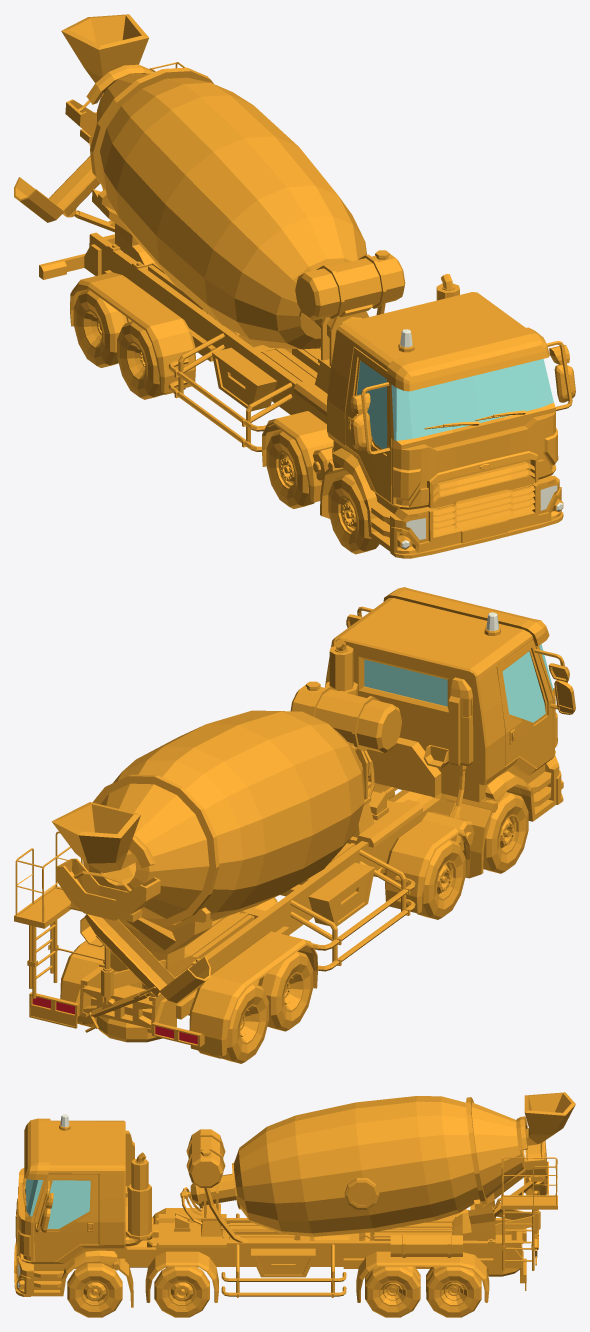
File: SM_Car_Truck_Modern_Concrete.fbx
3 views of the same model, one above another, from view 1: azimuth 30°, elevation 25°; view 2: azimuth 150°, elevation 25°; view 3: azimuth 270°, elevation 25° (orthographic). The views are drawn at different scales.
Parts seen in each view (by area): view 1: SM_Car_Truck_Modern_Concrete_Base, SM_Car_Truck_Modern_Concrete_Tank, SM_Car_Truck_Modern_Concrete_Door_RF, SM_Car_Truck_Modern_Concrete_Wheel_BR2, SM_Car_Truck_Modern_Concrete_Wheel_RF1, SM_Car_Truck_Modern_Concrete_Wheel_BR1, SM_Car_Truck_Modern_Concrete_Wheel_RF2, SM_Car_Truck_Modern_Concrete_Door_LF; view 2: SM_Car_Truck_Modern_Concrete_Base, SM_Car_Truck_Modern_Concrete_Tank, SM_Car_Truck_Modern_Concrete_Door_RF, SM_Car_Truck_Modern_Concrete_Wheel_BR1, SM_Car_Truck_Modern_Concrete_Wheel_RF1, SM_Car_Truck_Modern_Concrete_Wheel_RF2, SM_Car_Truck_Modern_Concrete_Wheel_BR2; view 3: SM_Car_Truck_Modern_Concrete_Base, SM_Car_Truck_Modern_Concrete_Tank, SM_Car_Truck_Modern_Concrete_Door_LF, SM_Car_Truck_Modern_Concrete_Wheel_BL1, SM_Car_Truck_Modern_Concrete_Wheel_LF1, SM_Car_Truck_Modern_Concrete_Wheel_BL2, SM_Car_Truck_Modern_Concrete_Wheel_LF2.
Boxes of the visible parts, left/top/right/bottom form: SM_Car_Truck_Modern_Concrete_Base: left=14, top=14, right=563, bottom=558; SM_Car_Truck_Modern_Concrete_Tank: left=90, top=67, right=366, bottom=349; SM_Car_Truck_Modern_Concrete_Door_RF: left=345, top=347, right=391, bottom=502; SM_Car_Truck_Modern_Concrete_Wheel_BR2: left=73, top=289, right=131, bottom=367; SM_Car_Truck_Modern_Concrete_Wheel_RF1: left=328, top=474, right=379, bottom=554; SM_Car_Truck_Modern_Concrete_Wheel_BR1: left=117, top=321, right=185, bottom=399; SM_Car_Truck_Modern_Concrete_Wheel_RF2: left=266, top=430, right=314, bottom=508; SM_Car_Truck_Modern_Concrete_Door_LF: left=546, top=341, right=575, bottom=410; SM_Car_Truck_Modern_Concrete_Base: left=14, top=587, right=563, bottom=1056; SM_Car_Truck_Modern_Concrete_Tank: left=83, top=710, right=364, bottom=926; SM_Car_Truck_Modern_Concrete_Door_RF: left=496, top=640, right=575, bottom=767; SM_Car_Truck_Modern_Concrete_Wheel_BR1: left=254, top=951, right=313, bottom=1031; SM_Car_Truck_Modern_Concrete_Wheel_RF1: left=483, top=792, right=528, bottom=873; SM_Car_Truck_Modern_Concrete_Wheel_RF2: left=416, top=840, right=465, bottom=919; SM_Car_Truck_Modern_Concrete_Wheel_BR2: left=198, top=984, right=268, bottom=1063; SM_Car_Truck_Modern_Concrete_Base: left=14, top=1092, right=575, bottom=1307; SM_Car_Truck_Modern_Concrete_Tank: left=232, top=1096, right=524, bottom=1236; SM_Car_Truck_Modern_Concrete_Door_LF: left=34, top=1174, right=98, bottom=1262; SM_Car_Truck_Modern_Concrete_Wheel_BL1: left=365, top=1266, right=420, bottom=1317; SM_Car_Truck_Modern_Concrete_Wheel_LF1: left=67, top=1263, right=122, bottom=1317; SM_Car_Truck_Modern_Concrete_Wheel_BL2: left=426, top=1267, right=481, bottom=1317; SM_Car_Truck_Modern_Concrete_Wheel_LF2: left=154, top=1266, right=209, bottom=1317.
Size of the model in its own units: 3.28 by 3.8 by 10.24.
